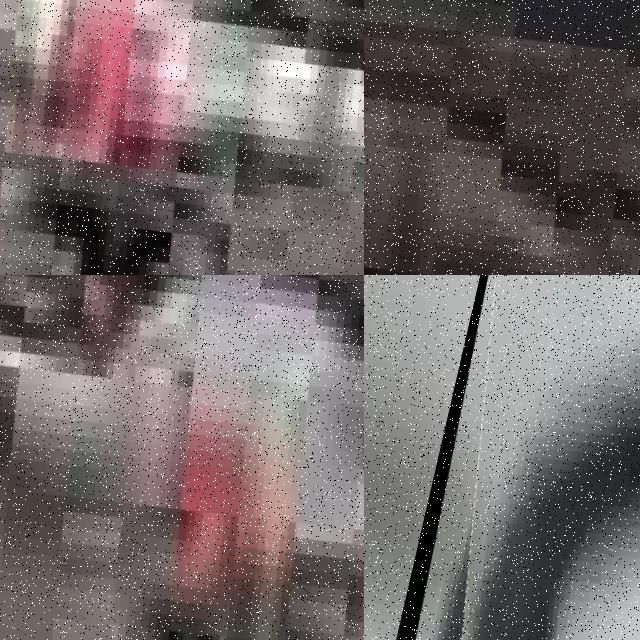0: (0, 275, 364, 640), (0, 0, 364, 275), (364, 0, 640, 275)
drone: (394, 275, 640, 640)
